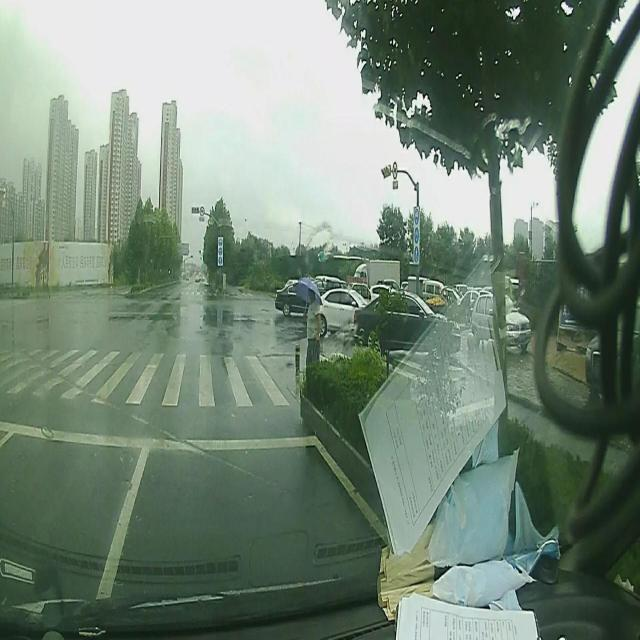car: (352, 290, 460, 351), (471, 290, 530, 351), (318, 286, 366, 336), (275, 280, 323, 313)
